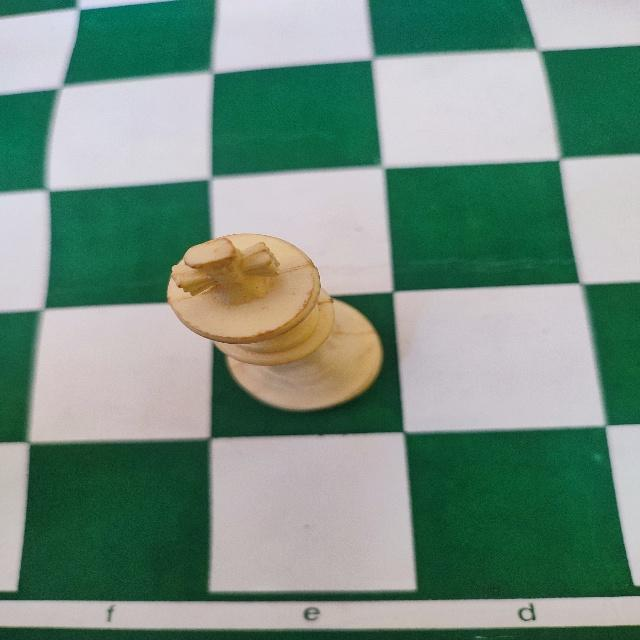King: (166, 232, 381, 414)
